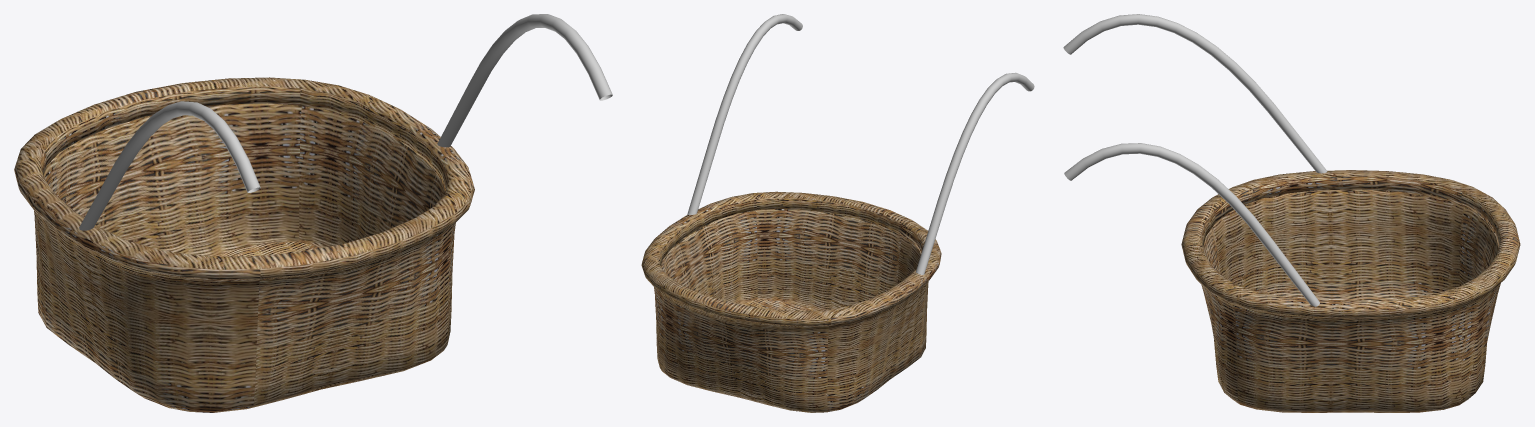
Rendered from Basket.fbx.
3 renders of one model, left to right at view 1: azimuth 30°, elevation 25°; view 2: azimuth 150°, elevation 25°; view 3: azimuth 270°, elevation 25°, orthographic. The views are drawn at different scales.
Visible parts, largest first — view 1: Plane; view 2: Plane; view 3: Plane.
Boxes of the visible parts, x1=… form: Plane: x1=14, y1=14, x2=612, y2=412; Plane: x1=641, y1=14, x2=1034, y2=412; Plane: x1=1063, y1=14, x2=1520, y2=412.
Bounding box in the file's own units: 246 × 240 × 339.
